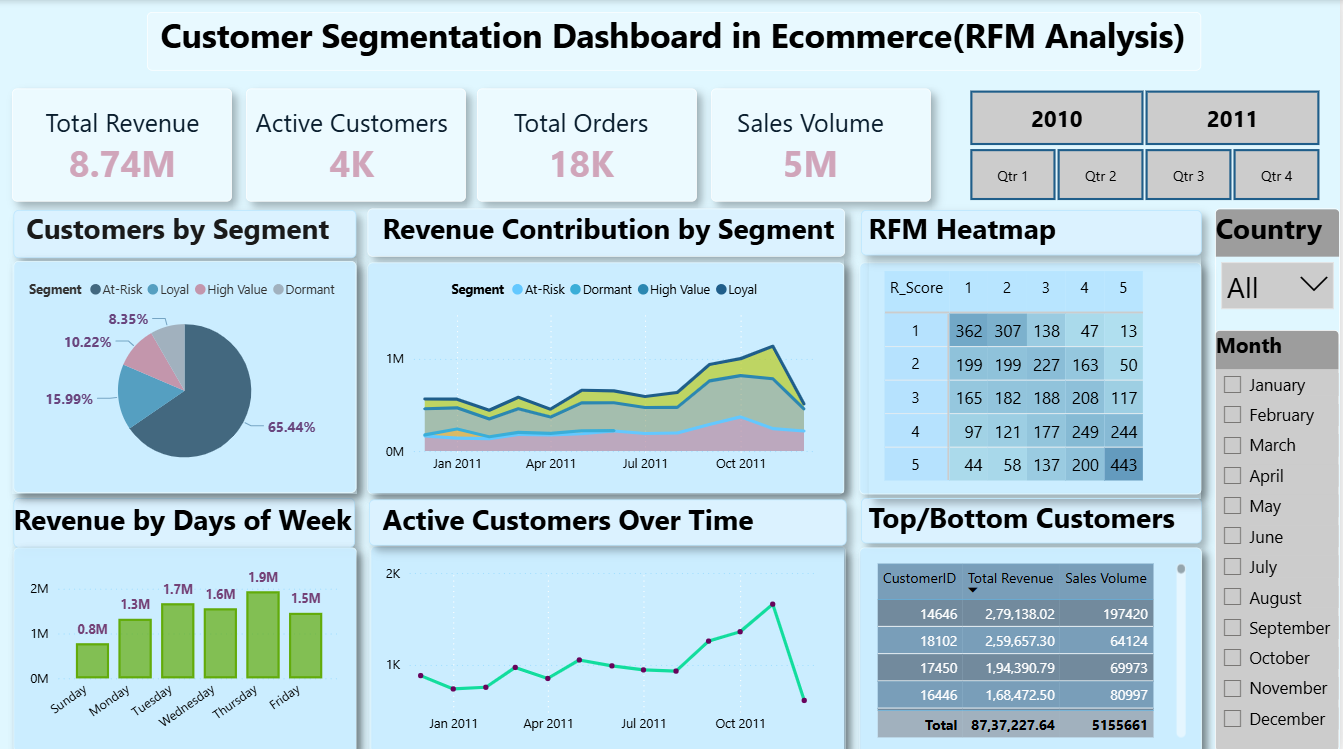

This screenshot's page, from the dashboard's own definition file:
{"tool":"powerbi","page":{"name":"Page 1","canvas":[1280,720],"ordinal":0},"visuals":[{"type":"shape","box":[354.3,521.4,454.3,197.1],"z":0},{"type":"shape","box":[13,476,326,47],"z":1000},{"type":"shape","box":[140,11.1,1006.9,55.7],"z":2000},{"type":"textbox","box":[152.7,11.1,994.1,73.2],"z":3000},{"type":"shape","box":[11.3,85,209.8,107.7],"z":4000},{"type":"shape","box":[234.3,85,209.8,107.7],"z":5000},{"type":"shape","box":[678.4,85,209.8,107.7],"z":6000},{"type":"shape","box":[455.4,85,209.8,107.7],"z":7000},{"type":"shape","box":[12.7,200.4,327.7,46.1],"z":8000},{"type":"cardVisual","fields":{"Data":["Date.TotalRevenue","Date.Active Customers","Date.TotalOrders","Date.SalesVolume"]},"box":[11.3,67.3,871.3,144],"z":9000},{"type":"shape","box":[351.4,198.6,455.7,45.7],"z":10000},{"type":"shape","box":[12.5,248.8,327.5,221.2],"z":11000},{"type":"textbox","box":[0,198.7,339.3,47.3],"z":12000},{"type":"pieChart","fields":{"Y":["Date.Active Customers"],"Category":["rfm_new_data.Segment"]},"box":[11,246,329,225],"z":13000},{"type":"shape","box":[351,250,455,221],"z":14000},{"type":"textbox","box":[365.7,198.6,462.9,47.1],"z":15000},{"type":"stackedAreaChart","fields":{"Y":["Sum(df_cleaned.TotalSales)"],"Series":["rfm_new_data.Segment"],"Category":["Date.InvoiceDate.Variation.Date Hierarchy.Year","Date.InvoiceDate.Variation.Date Hierarchy.Quarter","Date.InvoiceDate.Variation.Date Hierarchy.Month"]},"box":[353,247,454,224],"z":16000},{"type":"shape","box":[820.2,251.3,326.9,221.1],"z":17000},{"type":"shape","box":[12.2,523.3,327.8,195.6],"z":18000},{"type":"textbox","box":[12.9,477.1,337.1,72.9],"z":19000},{"type":"columnChart","fields":{"Category":["Date.DayOfWeek"],"Y":["Date.Total Revenue"]},"box":[12.2,523.3,326.7,195.6],"z":20000},{"type":"lineChart","fields":{"Y":["Date.Active Customers"],"Category":["Date.InvoiceDate.Variation.Date Hierarchy.Year","Date.InvoiceDate.Variation.Date Hierarchy.Quarter","Date.InvoiceDate.Variation.Date Hierarchy.Month"]},"box":[352.9,522.9,454.3,195.7],"z":21000},{"type":"shape","box":[352.9,477.1,455.7,44.3],"z":22000},{"type":"textbox","box":[365.6,476.7,427.8,45.6],"z":23000},{"type":"shape","box":[822.1,476.2,325,43.5],"z":24000},{"type":"shape","box":[822.1,200.3,325,43.5],"z":25000},{"type":"shape","box":[820.2,523.5,326.9,196.5],"z":26000},{"type":"tableEx","fields":{"Values":["df_cleaned.CustomerID","Date.Total Revenue","Date.Sales Volume"]},"box":[822.1,523.5,325,196.5],"z":27000},{"type":"textbox","box":[829.6,476.2,317.5,43.5],"z":28000},{"type":"textbox","box":[829.6,198.4,317.5,49.1],"z":29000},{"type":"pivotTable","fields":{"Columns":["rfm_new_data.F_Score"],"Rows":["rfm_new_data.R_Score"],"Values":["CountNonNull(rfm_new_data.M_Score)"]},"box":[829.6,243.8,317.5,232.4],"z":30000},{"type":"slicer","fields":{"Values":["Date.InvoiceDate.Variation.Date Hierarchy.Year"]},"box":[905.3,84.5,373.9,55.9],"z":31000},{"type":"slicer","fields":{"Values":["Date.InvoiceDate.Variation.Date Hierarchy.Quarter"]},"box":[905.3,140.4,373.9,53],"z":32000},{"type":"slicer","title":"Country","fields":{"Values":["df_cleaned.Country"]},"box":[1160.3,198.4,119.1,132.3],"z":33000},{"type":"slicer","title":"Month","fields":{"Values":["Date.InvoiceDate.Variation.Date Hierarchy.Month"]},"box":[1160.2,315.1,118.9,402.5],"z":34000}]}

Visuals, with their boxes in screenshot pixels (x1, y1, x2, y2), scaled from the page's 1280x720 canvas onto the 1343x749 screenshot:
shape: 372:542:848:747
shape: 14:495:356:544
shape: 147:12:1203:69
textbox: 160:12:1203:88
shape: 12:88:232:200
shape: 246:88:466:200
shape: 712:88:932:200
shape: 478:88:698:200
shape: 13:208:357:256
cardVisual - Date.TotalRevenue x Date.Active Customers: 12:70:926:220
shape: 369:207:847:254
shape: 13:259:357:489
textbox: 0:207:356:256
pieChart - Date.Active Customers x rfm_new_data.Segment: 12:256:357:490
shape: 368:260:846:490
textbox: 384:207:869:256
stackedAreaChart - Sum(df_cleaned.TotalSales) x rfm_new_data.Segment: 370:257:847:490
shape: 861:261:1204:491
shape: 13:544:357:748
textbox: 14:496:367:572
columnChart - Date.DayOfWeek x Date.Total Revenue: 13:544:356:748
lineChart - Date.Active Customers x Date.InvoiceDate.Variation.Date Hierarchy.Year: 370:544:847:748
shape: 370:496:848:542
textbox: 384:496:832:543
shape: 863:495:1204:541
shape: 863:208:1204:254
shape: 861:545:1204:748
tableEx - df_cleaned.CustomerID x Date.Total Revenue: 863:545:1204:748
textbox: 870:495:1204:541
textbox: 870:206:1204:257
pivotTable - rfm_new_data.F_Score x rfm_new_data.R_Score: 870:254:1204:495
slicer - Date.InvoiceDate.Variation.Date Hierarchy.Year: 950:88:1342:146
slicer - Date.InvoiceDate.Variation.Date Hierarchy.Quarter: 950:146:1342:201
"Country" slicer: 1217:206:1342:344
"Month" slicer: 1217:328:1342:747
